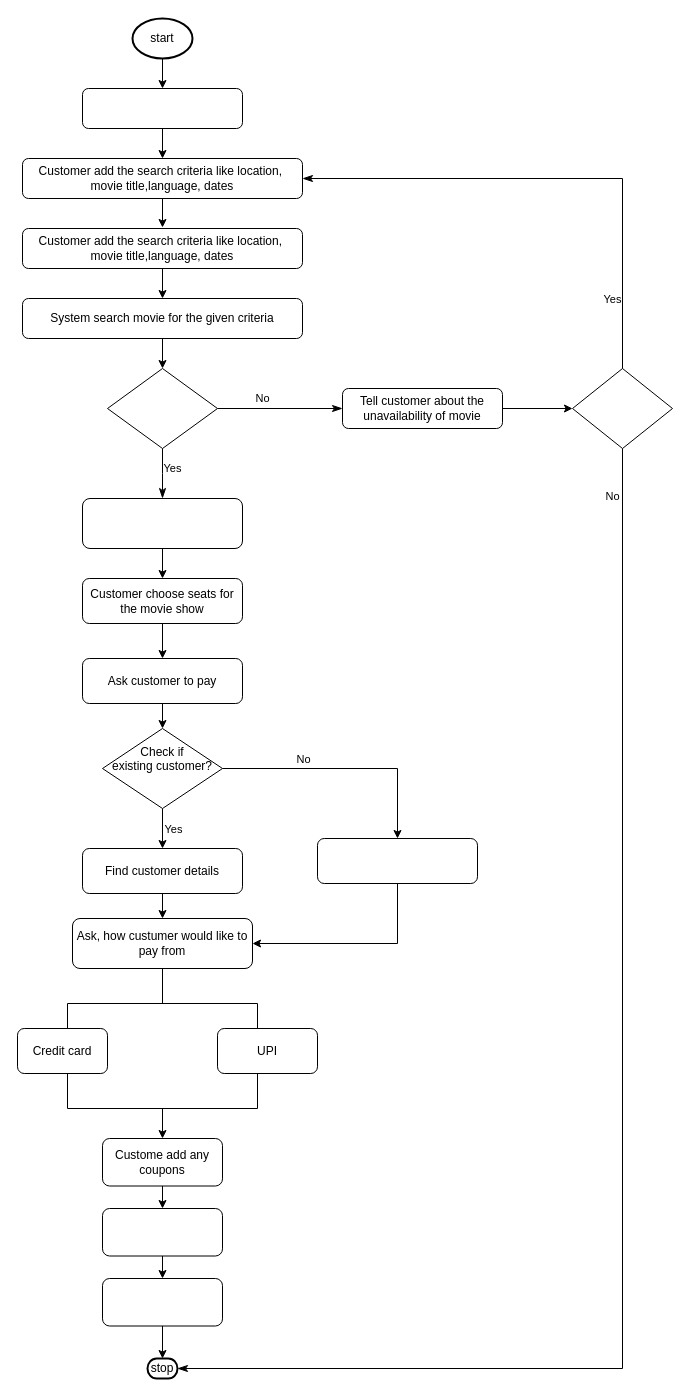
This 690x1396 diagram has some shape labels left out. The shapes that lost their labels are listed below. From the top down, each one's centre as x and y in pixels, then its label:
At [162,108]: "Customer opens a movie search page".
At [162,408]: "Is movie available?".
At [622,408]: "Search again?".
At [162,523]: "Custumer sees the theatrewise shows".
At [397,861]: "Register new customer(email or mobile no)".
At [162,1232]: "Make booking".
At [162,1302]: "Fetch booking details".
